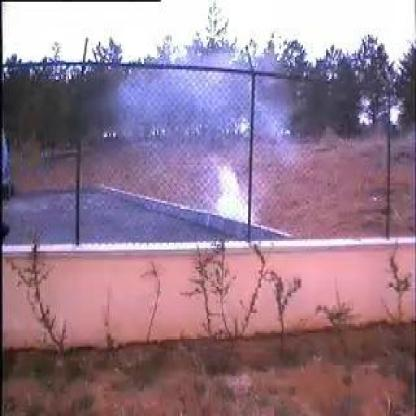-: (118, 82, 246, 233)
